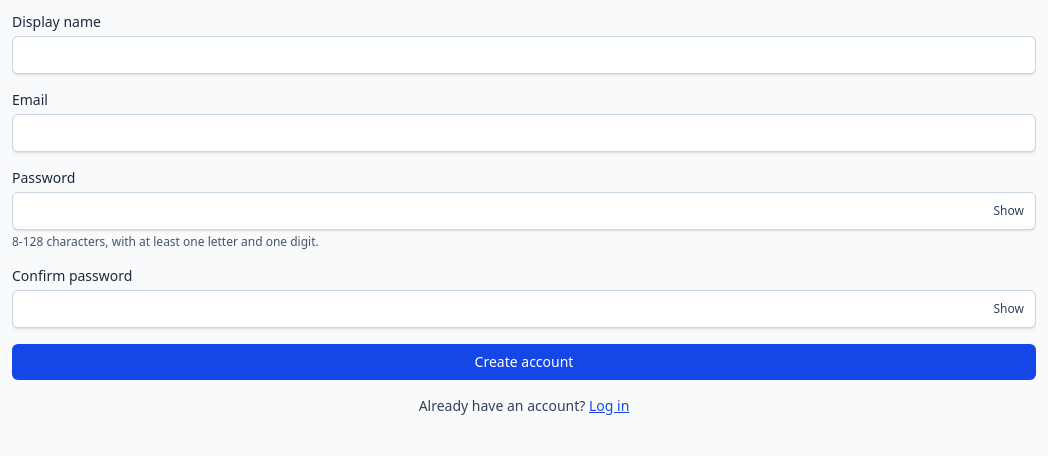
Test: RegisterForm › shows server validation errors next to their fields
Type "Ada" into the field labelled "Display name" at (524, 55), box 12,36 -> 1036,74
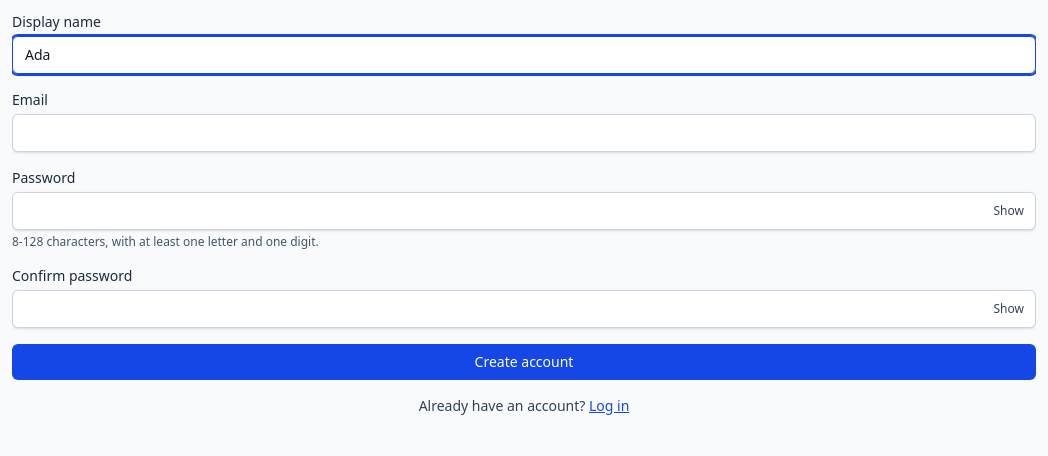
Type "ada@example.com" into the field labelled "Email" at (524, 133), box 12,114 -> 1036,152
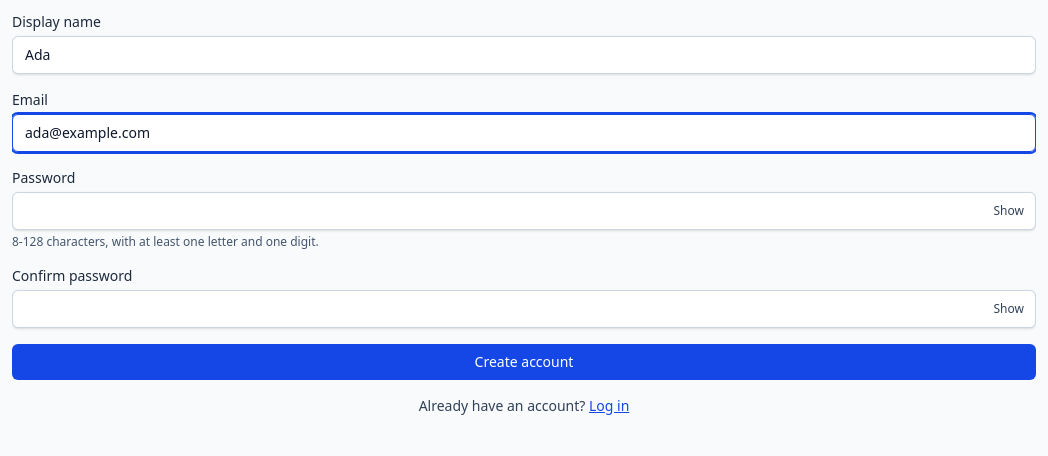
Type "correcthorse1" into the password field labelled "Password" at (524, 211), box 12,192 -> 1036,230
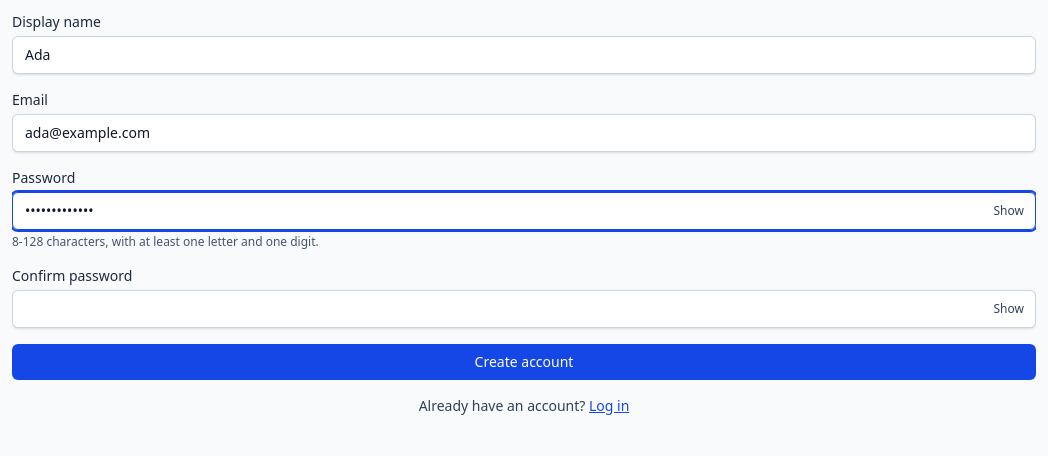
Type "correcthorse1" into the password field labelled "Confirm password" at (524, 309), box 12,290 -> 1036,328
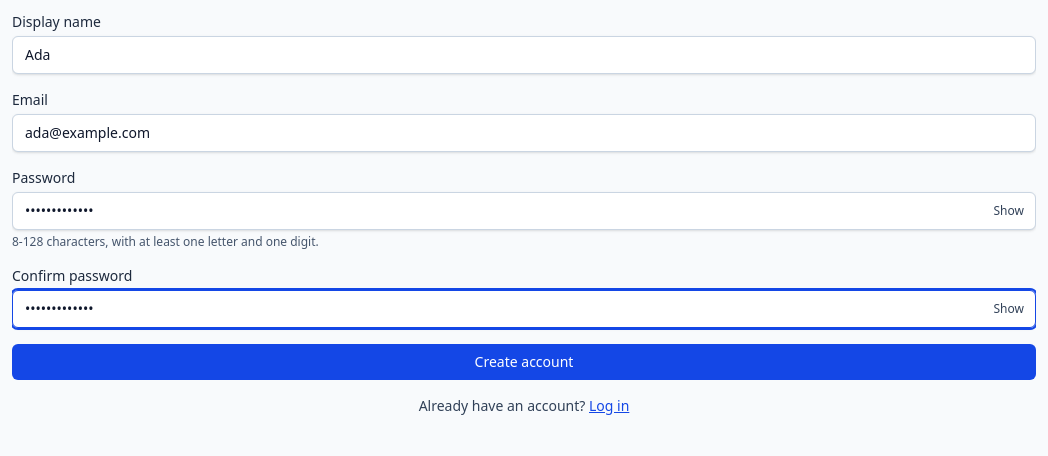
Click the button "Create account" at (524, 362), box 12,344 -> 1036,380
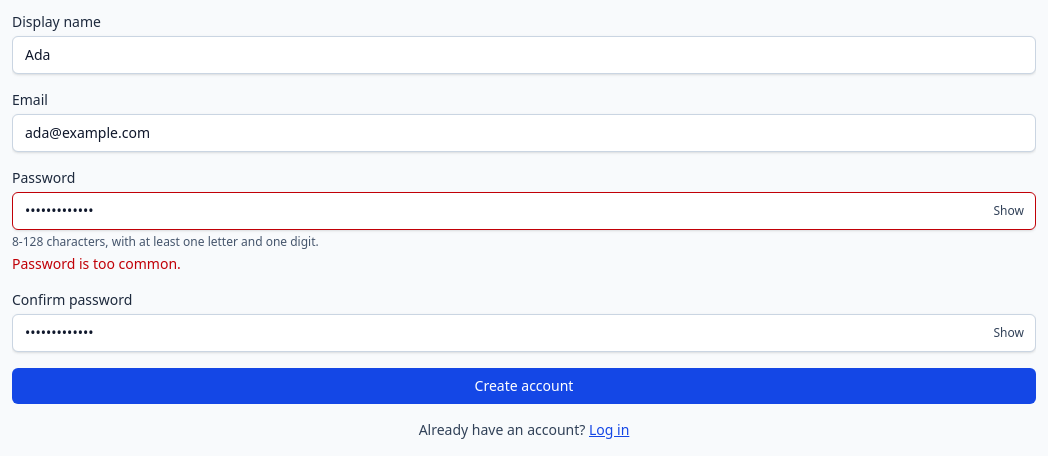
Result: the text "Password is too common." is shown at 12,254 -> 181,273
